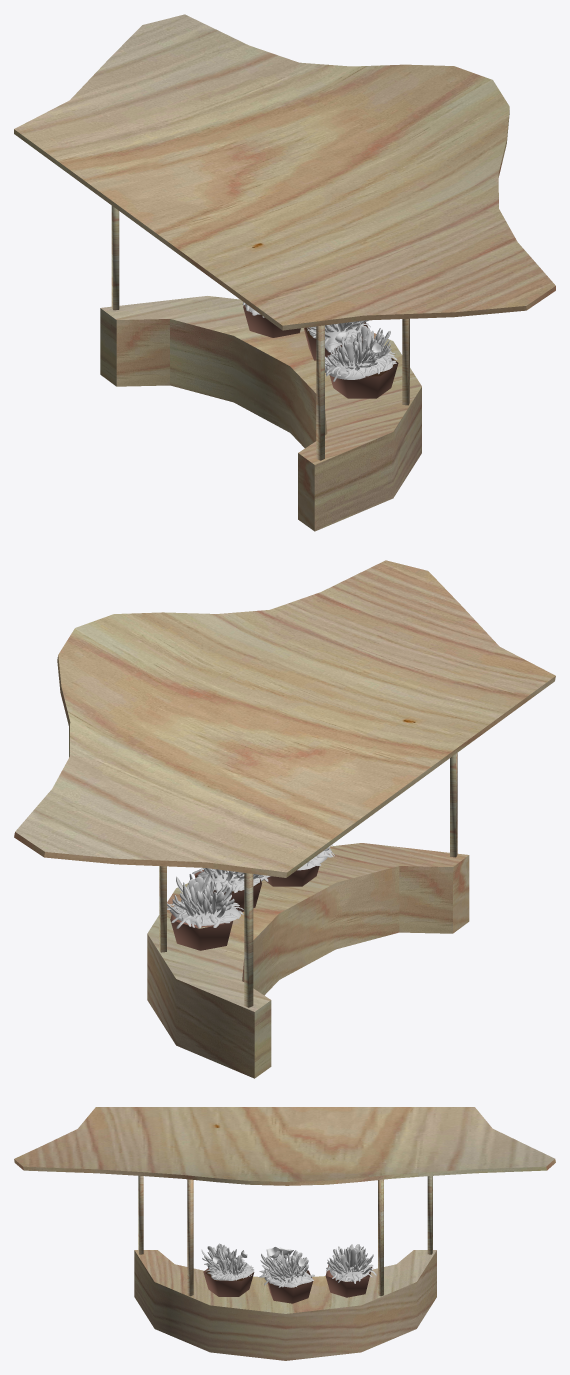
File: Shop5.fbx
The picture shows the model from 3 angles, top to bottom: view 1: azimuth 30°, elevation 25°; view 2: azimuth 150°, elevation 25°; view 3: azimuth 270°, elevation 25°; orthographic projection. The views are drawn at different scales.
Parts seen in each view (by area): view 1: BezierCurve.004, Cylinder.022, Cube.006, cheiridopsis_succulent_h_LOD0, Cylinder.018, cheiridopsis_succulent_g_LOD0, Cylinder.021; view 2: BezierCurve.004, Cylinder.022, Cube.006, cheiridopsis_succulent_f_LOD0, Cylinder.021, cheiridopsis_succulent_g_LOD0, Cylinder.018; view 3: BezierCurve.004, Cylinder.022, Cube.006, cheiridopsis_succulent_g_LOD0, cheiridopsis_succulent_f_LOD0, cheiridopsis_succulent_h_LOD0, Cylinder.018, Cylinder.021, Cylinder.020.
Boxes of the visible parts, x1,y1,x2,y2 form: BezierCurve.004: [14, 14, 555, 330]; Cylinder.022: [100, 296, 421, 531]; Cube.006: [111, 206, 409, 460]; cheiridopsis_succulent_h_LOD0: [325, 326, 397, 381]; Cylinder.018: [329, 358, 398, 398]; cheiridopsis_succulent_g_LOD0: [307, 320, 370, 352]; Cylinder.021: [243, 305, 300, 337]; BezierCurve.004: [14, 560, 555, 877]; Cylinder.022: [147, 843, 469, 1078]; Cube.006: [159, 753, 457, 1007]; cheiridopsis_succulent_f_LOD0: [167, 874, 243, 928]; Cylinder.021: [170, 905, 232, 950]; cheiridopsis_succulent_g_LOD0: [192, 868, 270, 892]; Cylinder.018: [264, 866, 319, 886]; BezierCurve.004: [14, 1107, 555, 1185]; Cylinder.022: [134, 1250, 436, 1360]; Cube.006: [138, 1175, 432, 1296]; cheiridopsis_succulent_g_LOD0: [259, 1247, 314, 1287]; cheiridopsis_succulent_f_LOD0: [326, 1244, 376, 1283]; cheiridopsis_succulent_h_LOD0: [201, 1243, 254, 1280]; Cylinder.018: [203, 1268, 254, 1296]; Cylinder.021: [325, 1265, 372, 1297]; Cylinder.020: [267, 1269, 313, 1303].
Size of the model in its own units: 557 by 466 by 1072.
